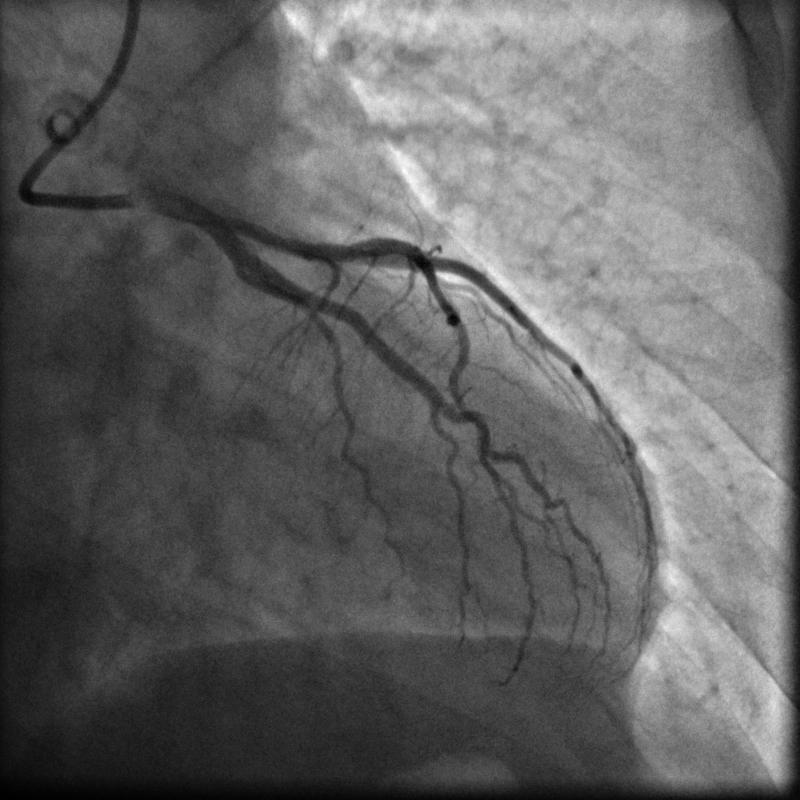Stenosis: (218, 209, 254, 238)
